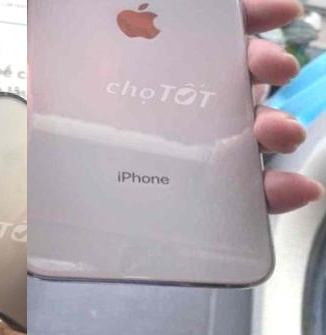scratch: (27, 248, 37, 271)
